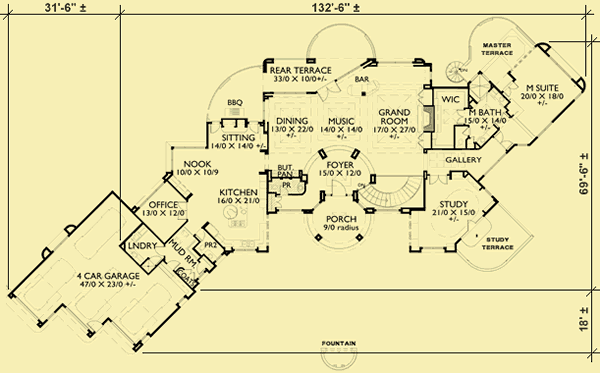bathroom has a shower space with small and large sink: (461, 76, 521, 141)
kitchen is with a kitchen counter and sink: (206, 172, 267, 251)
open area has stairs: (350, 173, 428, 229)
this is a garage with four car parking: (18, 193, 190, 344)
